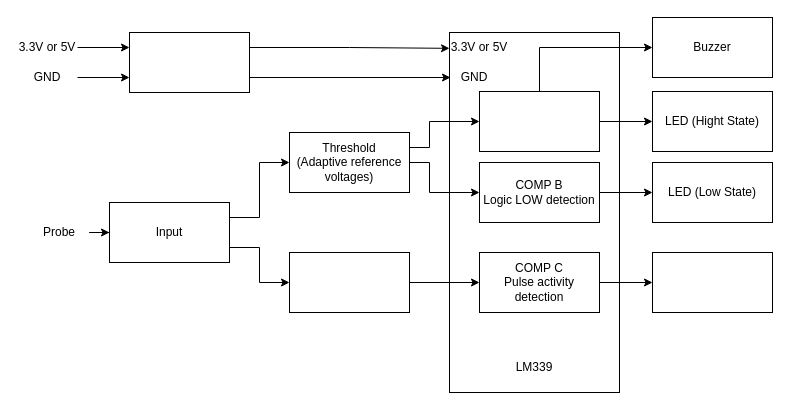
Some shapes in this 790 by 410 pixel diagram are drawn without their labels. Each missing label, with the box of its shape:
COMP A Logic HIGH detection: (478, 90, 600, 152)
LED (Pulse State): (652, 252, 772, 312)
Power: (128, 32, 250, 92)
Pulse Pulse width extension: (288, 252, 410, 312)
